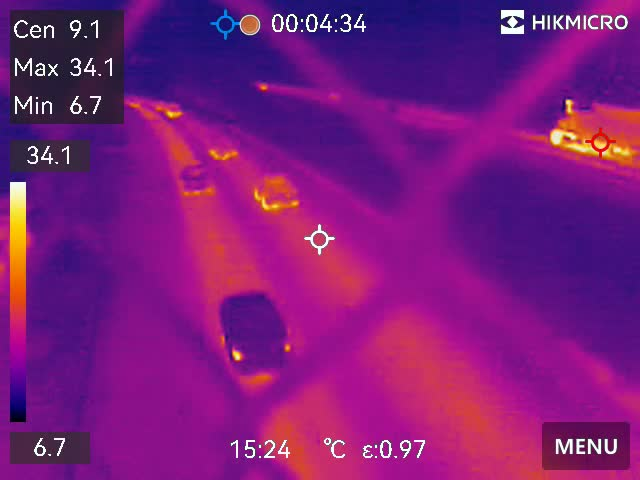heavyTruck: (544, 93, 640, 161)
